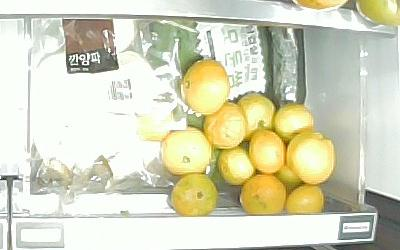tangerine: (180, 58, 230, 114), (160, 125, 212, 176), (287, 132, 337, 185), (169, 174, 218, 217), (238, 173, 288, 215), (204, 101, 246, 150), (236, 94, 275, 139), (219, 144, 257, 186), (250, 131, 286, 174), (274, 104, 313, 142), (287, 184, 324, 214)
